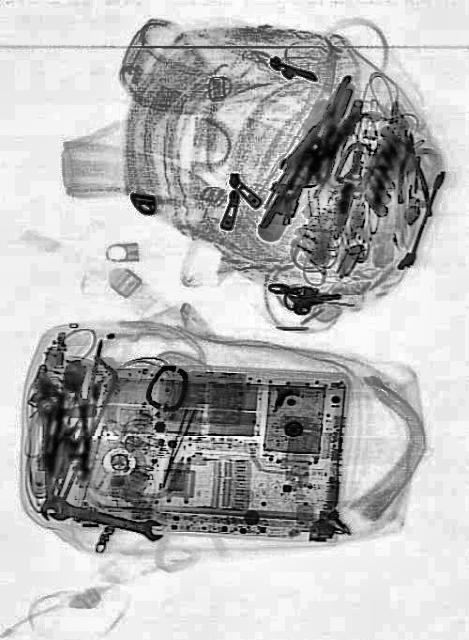Wrench: (48, 496, 164, 542), (34, 394, 58, 520)
